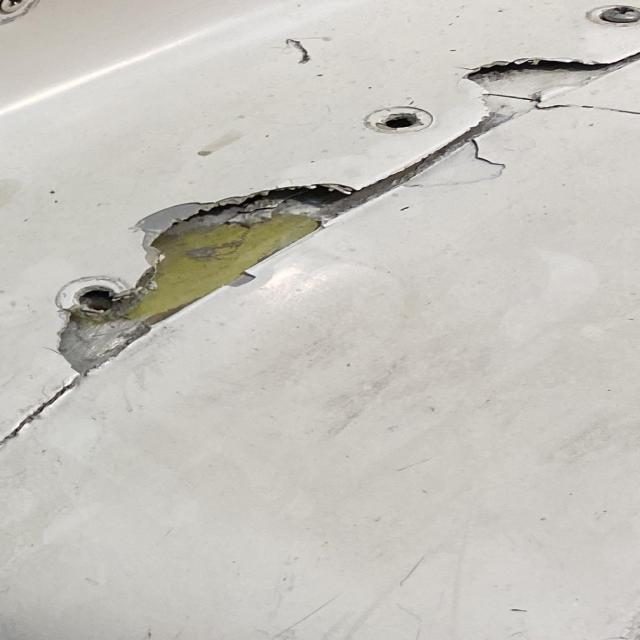Crack: (60, 184, 363, 375), (468, 53, 639, 116)
Missing-head: (367, 105, 434, 133)
Paint-off: (407, 139, 507, 187)
